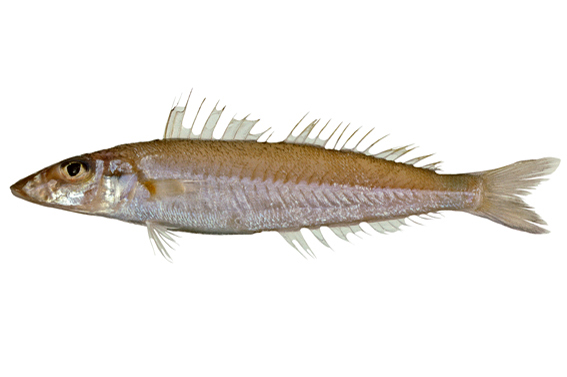kiss: (7, 130, 555, 257)
